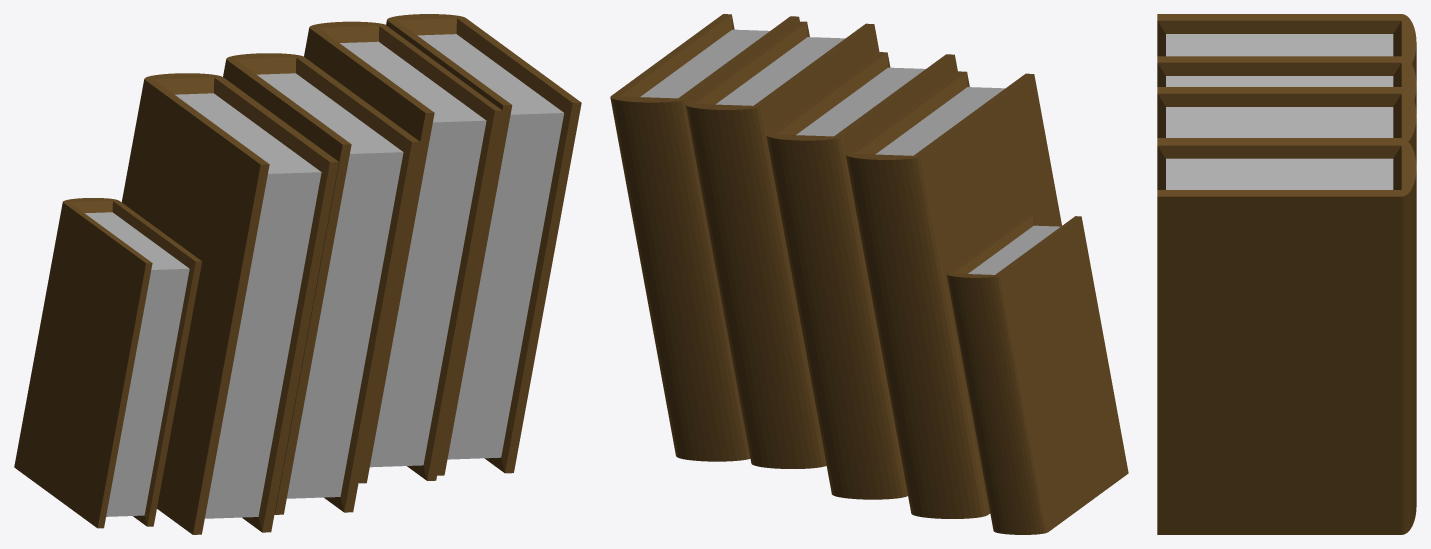
Rendered from books.glb.
3 views of the same model, side by side, from view 1: azimuth 30°, elevation 25°; view 2: azimuth 150°, elevation 25°; view 3: azimuth 270°, elevation 25° (orthographic). The views are drawn at different scales.
Parts seen in each view (by area): view 1: Circle.003, Circle.004, Circle.000, Circle.001, Circle.002; view 2: Circle.003, Circle.004, Circle.000, Circle.001, Circle.002; view 3: Circle.002, Circle.000, Circle.003, Circle.001.
Part boxes in pixels (box(x1,y1,x2,y2)): Circle.003: box(121, 73, 338, 534); Circle.004: box(14, 198, 201, 528); Circle.000: box(304, 21, 502, 483); Circle.001: box(223, 53, 420, 514); Circle.002: box(386, 14, 581, 475); Circle.003: box(845, 71, 1061, 518); Circle.004: box(946, 214, 1128, 534); Circle.000: box(685, 21, 879, 468); Circle.001: box(766, 52, 957, 499); Circle.002: box(610, 14, 799, 461); Circle.002: box(1157, 139, 1416, 534); Circle.000: box(1157, 87, 1416, 166); Circle.003: box(1157, 14, 1416, 83); Circle.001: box(1157, 56, 1416, 114).
Bounding box in the file's own units: 0.8103 × 0.6547 × 0.382.
